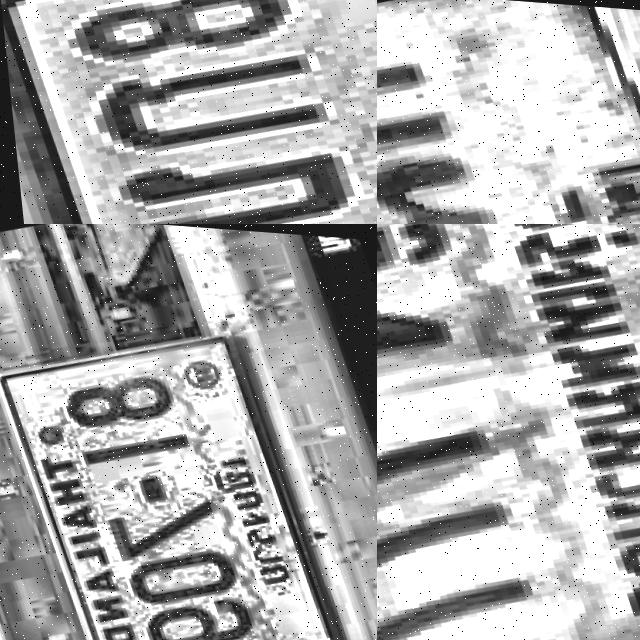license-plate: (0, 310, 349, 640), (377, 224, 640, 640), (0, 0, 377, 224), (377, 0, 640, 224)
